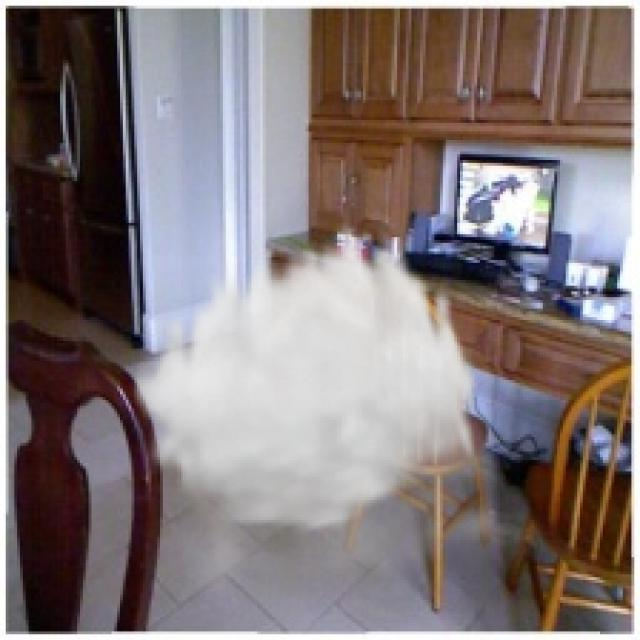smoke: (129, 214, 554, 609)
